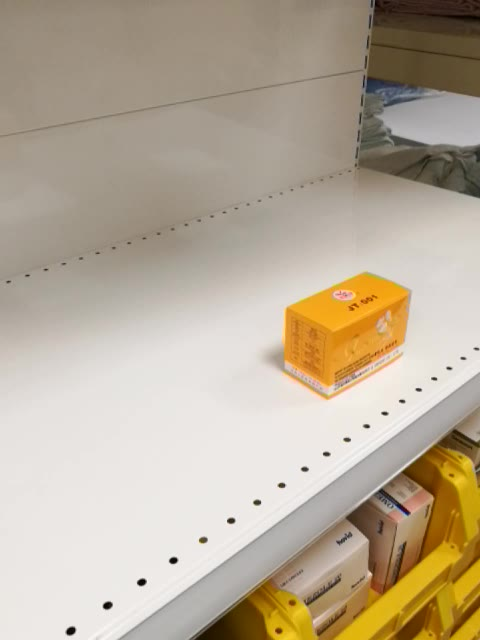jasminetea: (277, 270, 413, 401)
